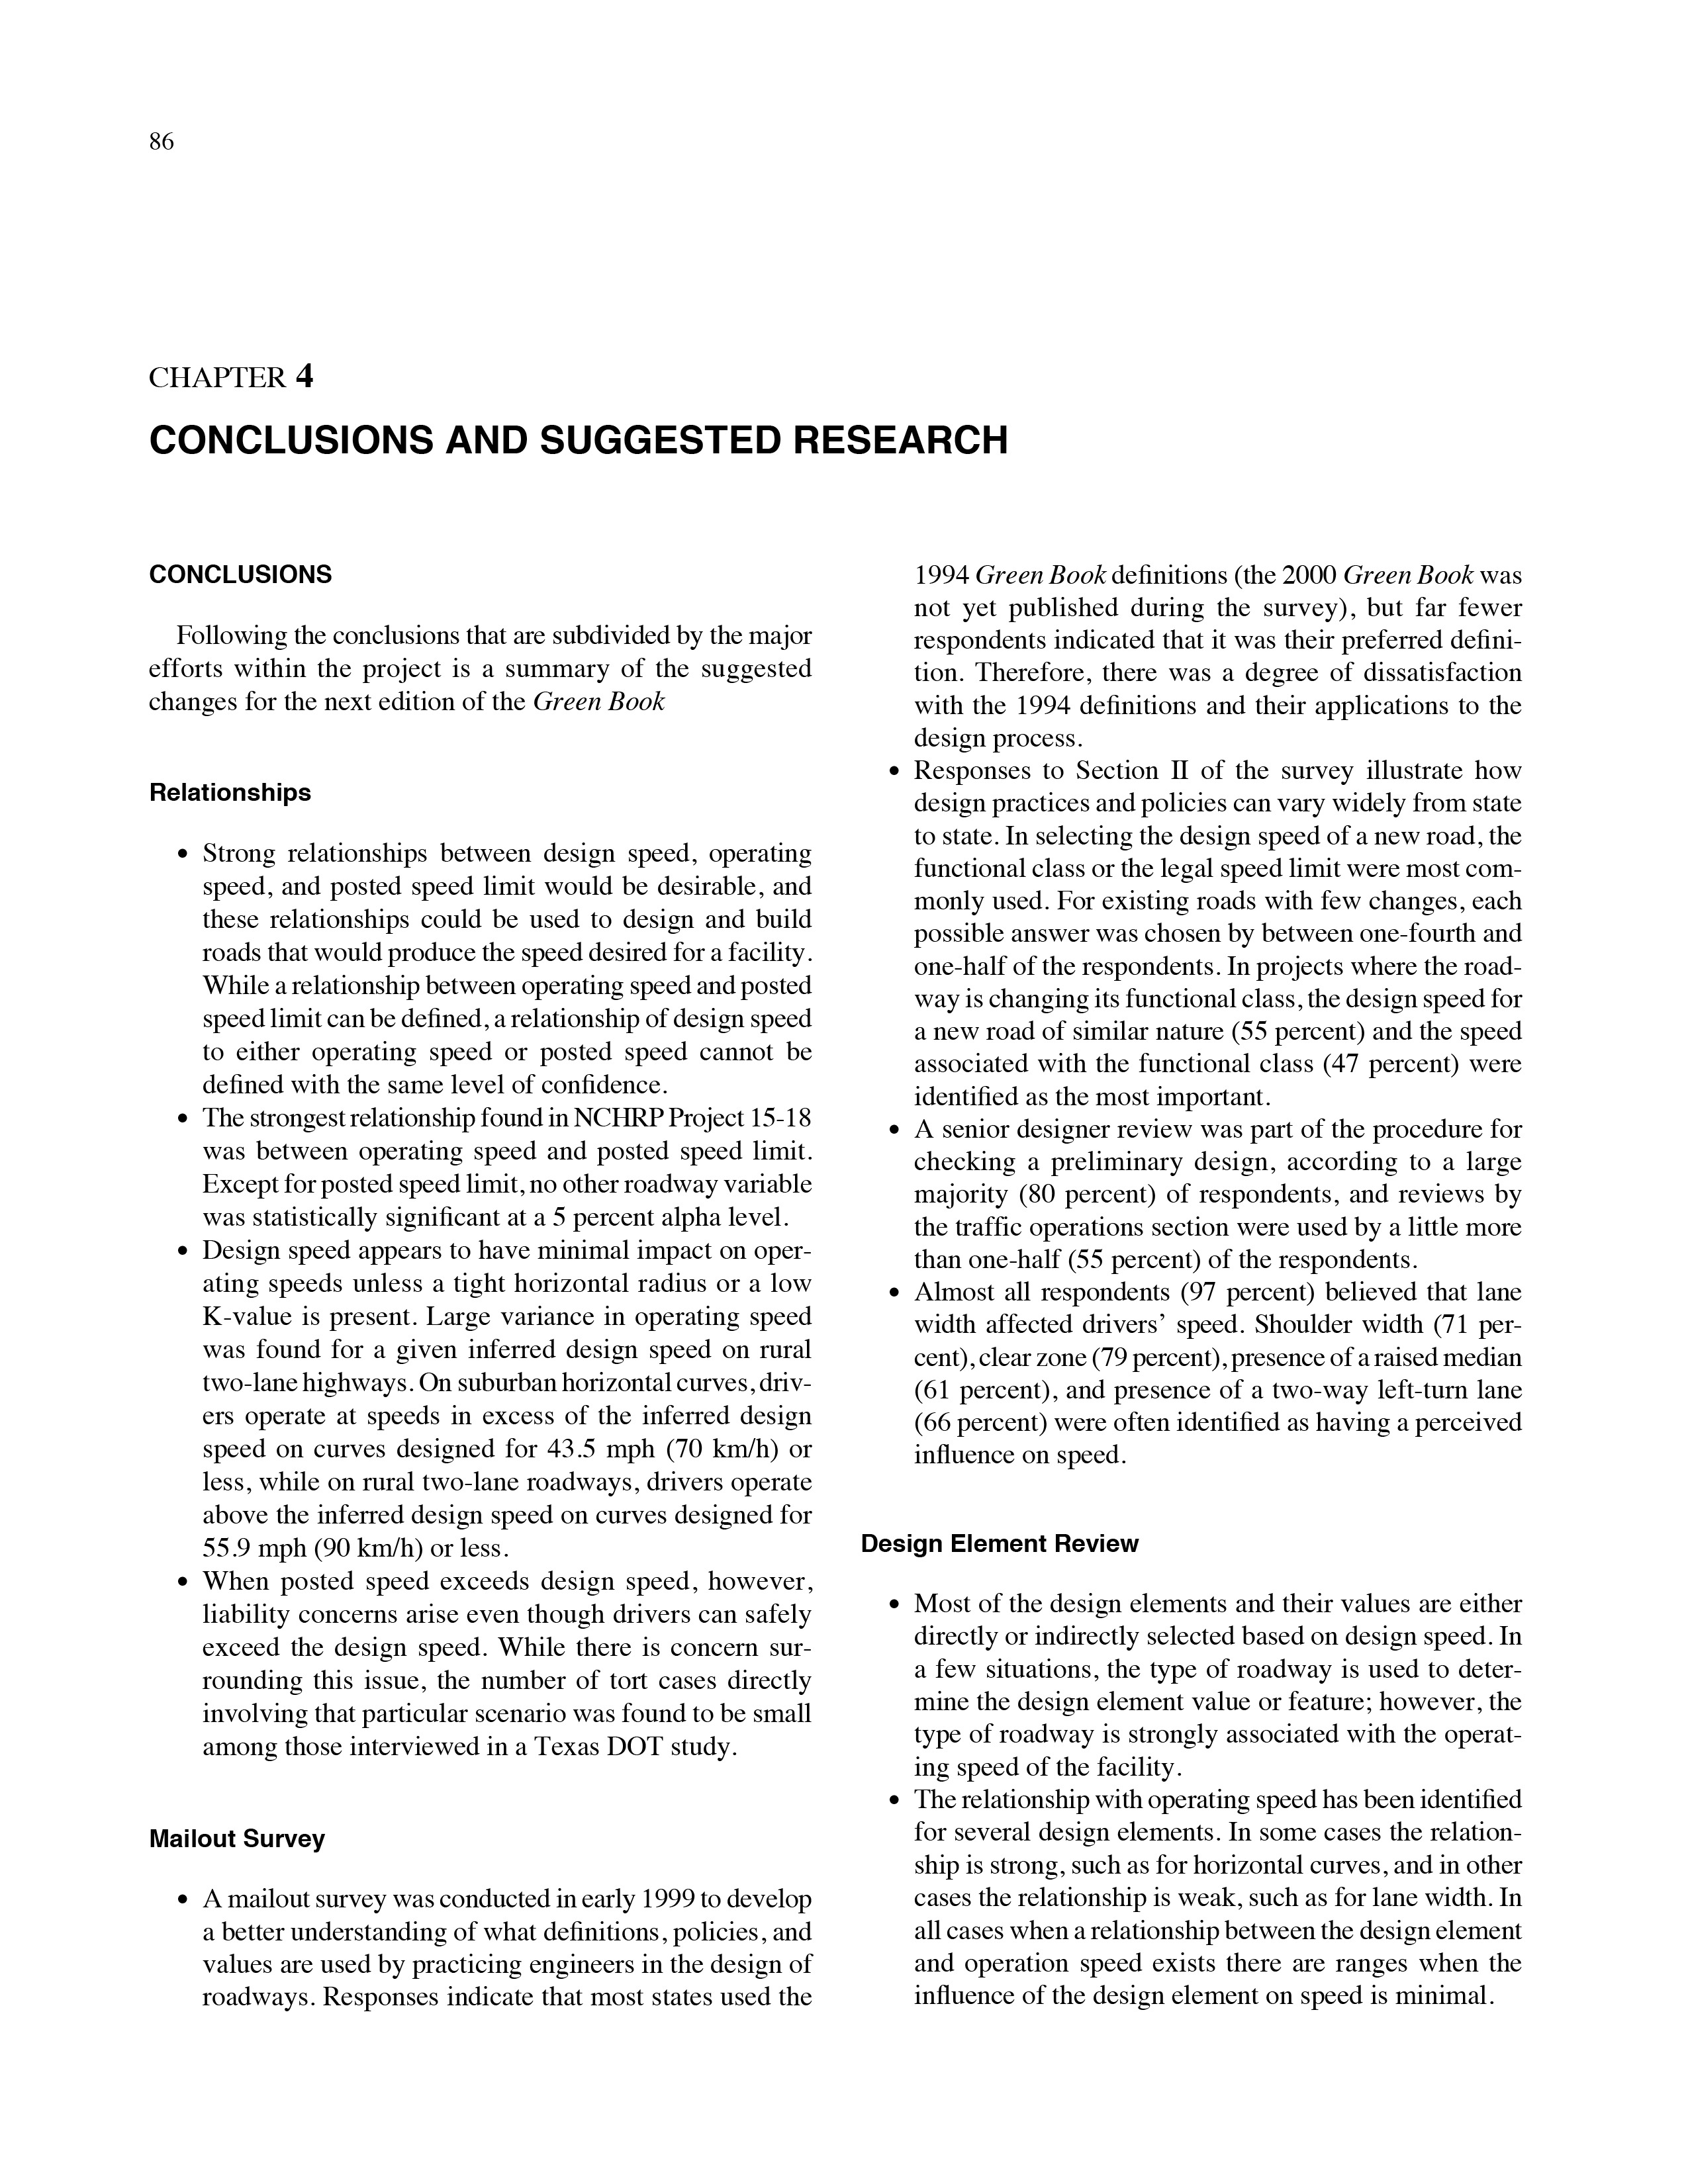list: (876, 525, 1543, 1480), (160, 812, 816, 1771), (883, 1569, 1534, 2023), (156, 1867, 837, 2023)
section: (145, 399, 1028, 473), (853, 1517, 1174, 1562), (142, 546, 353, 612), (133, 347, 340, 397), (137, 1817, 349, 1863), (133, 762, 324, 812)
text: (133, 619, 833, 730)
